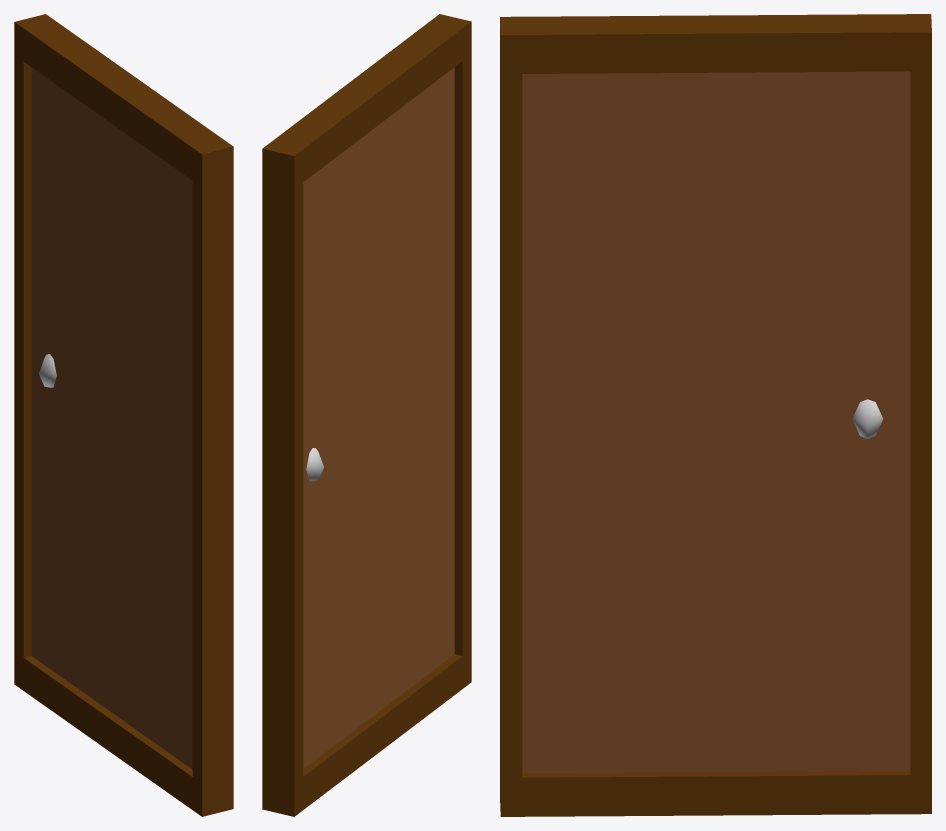
File: Door.fbx
The picture shows the model from 3 angles, left to right: view 1: azimuth 30°, elevation 25°; view 2: azimuth 150°, elevation 25°; view 3: azimuth 270°, elevation 25°; orthographic projection. The views are drawn at different scales.
Visible parts, largest first — view 1: Door; view 2: Door; view 3: Door.
Part boxes in pixels (x1,y1,x2,y2): Door: (14, 14, 233, 816); Door: (262, 14, 471, 816); Door: (500, 14, 931, 816).
Bounding box in the file's own units: 12.46 × 200 × 100.
